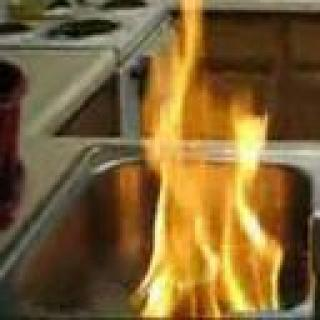fire: (138, 0, 288, 320)
